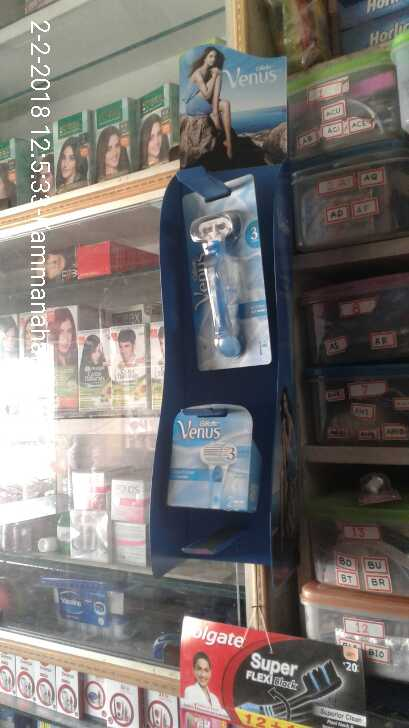venus: (183, 183, 265, 368), (162, 403, 256, 522)
